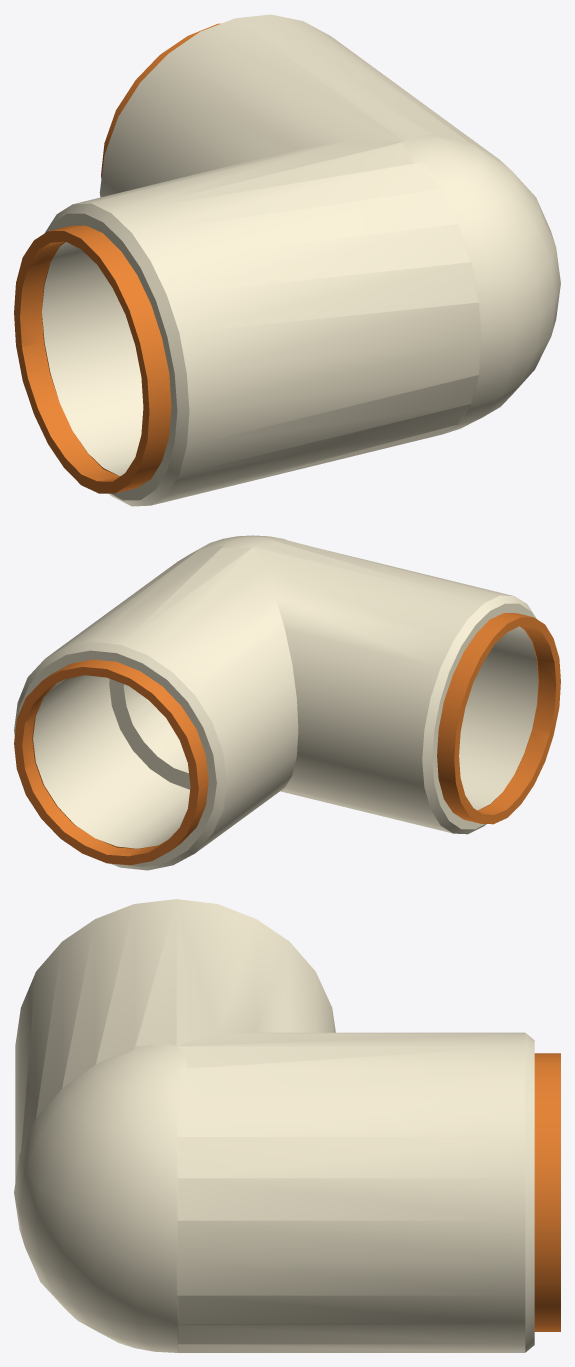
File: pipes_supply__water-city_filter_and_softener-no_and_plumbing-cpvc_and_shutoff_extra-attic+none.glb
3 renders of one model, top to bottom at view 1: azimuth 30°, elevation 25°; view 2: azimuth 150°, elevation 25°; view 3: azimuth 270°, elevation 25°, orthographic. The views are drawn at different scales.
Visible parts, largest first — view 1: fit_elbow_pipe_supply_entry_direct; view 2: fit_elbow_pipe_supply_entry_direct; view 3: fit_elbow_pipe_supply_entry_direct.
Boxes of the visible parts, x1,y1,x2,y2 form: fit_elbow_pipe_supply_entry_direct: (14,14,560,506); fit_elbow_pipe_supply_entry_direct: (14,535,560,870); fit_elbow_pipe_supply_entry_direct: (14,899,560,1352).
Bounding box in the file's own units: 0.0485 × 0.0286 × 0.0485.
